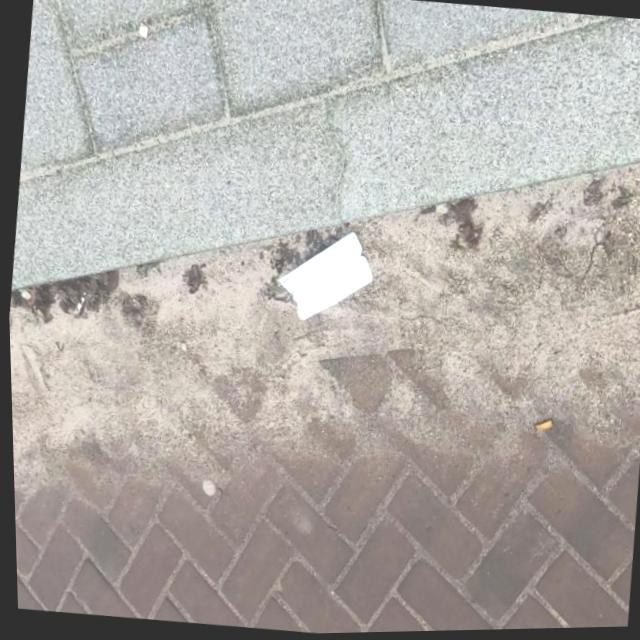Mask: (269, 223, 376, 329)
